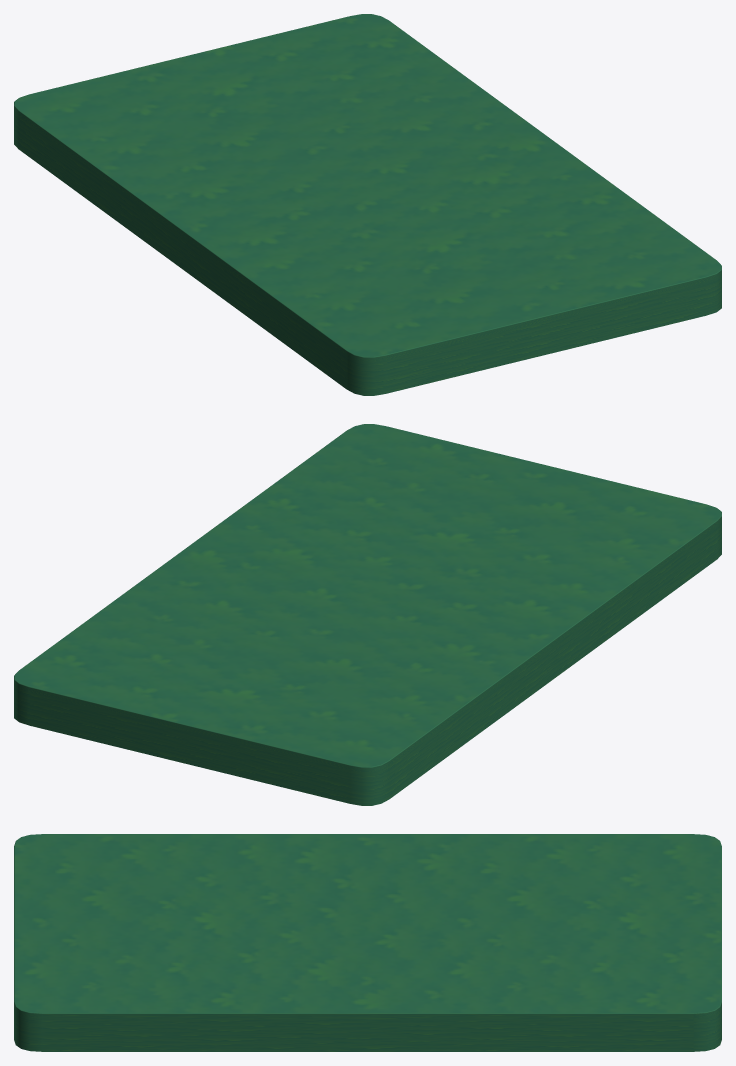
The model's file is new-island.glb.
3 renders of one model, top to bottom at view 1: azimuth 30°, elevation 25°; view 2: azimuth 150°, elevation 25°; view 3: azimuth 270°, elevation 25°, orthographic.
Visible parts, largest first — view 1: geometry_0; view 2: geometry_0; view 3: geometry_0.
Part boxes in pixels (box(x1,y1,x2,y2)): geometry_0: box(14, 14, 721, 395); geometry_0: box(14, 424, 721, 805); geometry_0: box(14, 834, 721, 1051).
Bounding box in the file's own units: 60 × 6 × 100.
Materials: 1 (1 with a texture image).
